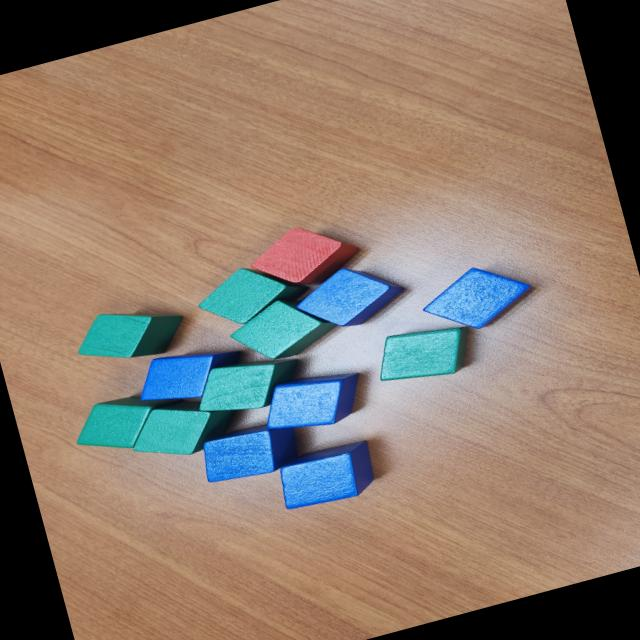blue: (416, 254, 540, 342), (288, 253, 411, 339), (252, 361, 371, 442), (129, 336, 250, 414), (272, 435, 381, 513), (287, 314, 397, 389), (194, 415, 304, 488), (218, 399, 280, 437)
green: (189, 250, 315, 334), (120, 388, 244, 470), (67, 380, 190, 462), (69, 292, 191, 374), (224, 286, 342, 370), (187, 345, 307, 424), (368, 315, 479, 392)
red: (242, 214, 366, 300)
